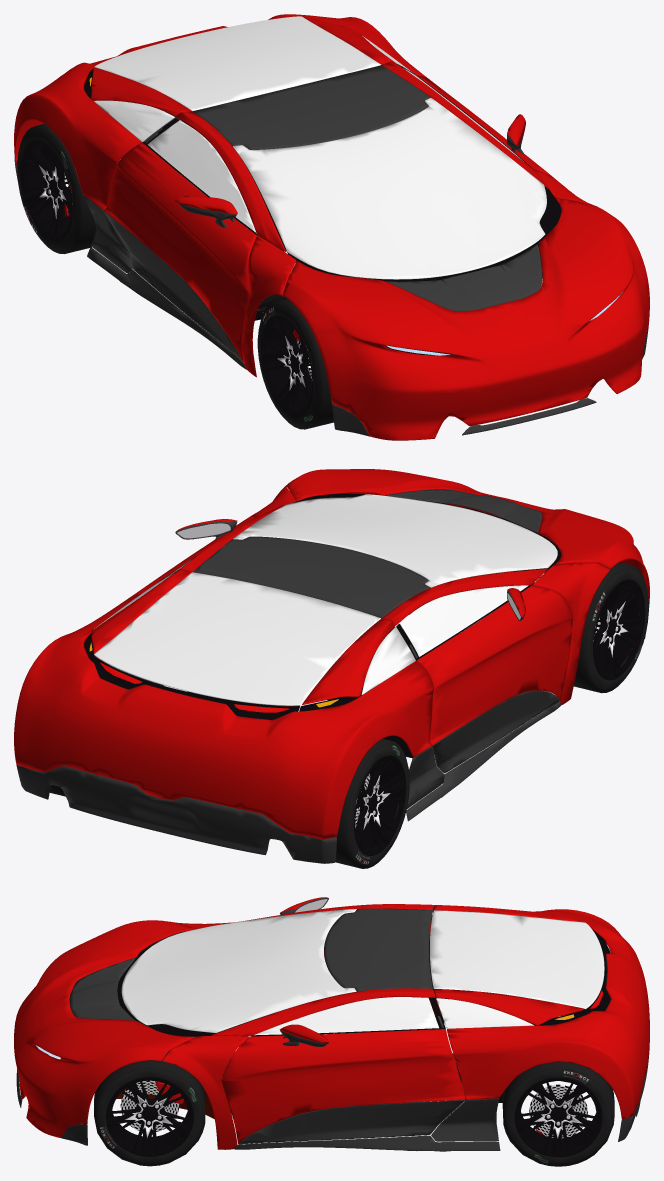
The model's file is car-high.glb.
3 views of the same model, one above another, from view 1: azimuth 30°, elevation 25°; view 2: azimuth 150°, elevation 25°; view 3: azimuth 270°, elevation 25° (orthographic). The views are drawn at different scales.
Parts seen in each view (by area): view 1: BodyHood, BodyWindshield, BodyRearwindow, BodyDoorRColor1, BodyRearPanelsColor1, BodyRoofPanel, BodyPillars, rim (×2), tyre (×2), BodyPanelsColor2, BodyHoodTopgrill, BodyDoorRWindow (+5 smaller); view 2: BodyRearPanelsColor1, BodyRearwindow, BodyWindshield, BodyPanelsColor2, BodyDoorRColor1, BodyRoofPanel, BodyHood, rim (×2), BodyPillars, tyre (×2), BodyDoorRColor2, BodyDoorRWindow (+4 smaller); view 3: BodyWindshield, BodyRearPanelsColor1, BodyDoorLColor1, BodyHood, BodyRearwindow, rim (×2), tyre (×2), BodyRoofPanel, BodyPillars, BodyDoorLColor2, BodyPanelsColor2, BodyDoorLWindow (+6 smaller).
Part boxes in pixels (x1,y1,x2,y2): BodyHood: [282, 197, 649, 440]; BodyWindshield: [233, 98, 546, 279]; BodyRearwindow: [94, 16, 380, 111]; BodyDoorRColor1: [104, 142, 256, 361]; BodyRearPanelsColor1: [14, 14, 426, 210]; BodyRoofPanel: [192, 65, 430, 149]; BodyPillars: [175, 61, 596, 377]; rim (×2): [20, 140, 313, 416]; tyre (×2): [17, 123, 333, 429]; BodyPanelsColor2: [15, 110, 648, 436]; BodyHoodTopgrill: [386, 244, 542, 311]; BodyDoorRWindow: [147, 120, 256, 233]; BodyRearPanelsColor1: [14, 569, 433, 839]; BodyRearwindow: [94, 572, 380, 705]; BodyWindshield: [233, 494, 557, 587]; BodyPanelsColor2: [16, 571, 645, 863]; BodyDoorRColor1: [416, 585, 572, 745]; BodyRoofPanel: [193, 536, 430, 618]; BodyHood: [283, 469, 649, 607]; rim (×2): [354, 579, 645, 855]; BodyPillars: [178, 487, 609, 704]; tyre (×2): [335, 562, 648, 868]; BodyDoorRColor2: [432, 690, 559, 773]; BodyDoorRWindow: [399, 585, 528, 656]; BodyWindshield: [121, 909, 356, 1032]; BodyRearPanelsColor1: [434, 905, 649, 1119]; BodyDoorLColor1: [221, 1029, 465, 1144]; BodyHood: [14, 920, 195, 1137]; BodyRearwindow: [430, 910, 604, 1009]; rim (×2): [106, 1077, 602, 1157]; tyre (×2): [94, 1053, 614, 1166]; BodyRoofPanel: [324, 908, 432, 991]; BodyPillars: [162, 904, 435, 1149]; BodyDoorLColor2: [239, 1100, 465, 1144]; BodyPanelsColor2: [16, 1010, 648, 1151]; BodyDoorLWindow: [254, 997, 438, 1035].
Size of the model in its own units: 2.34 by 1.15 by 4.36.
17 materials, 4 textured.
